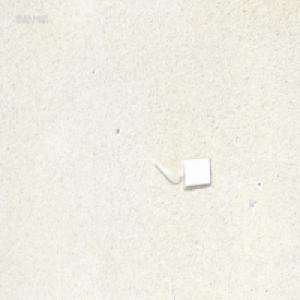LuggageTag: (152, 155, 211, 189)
